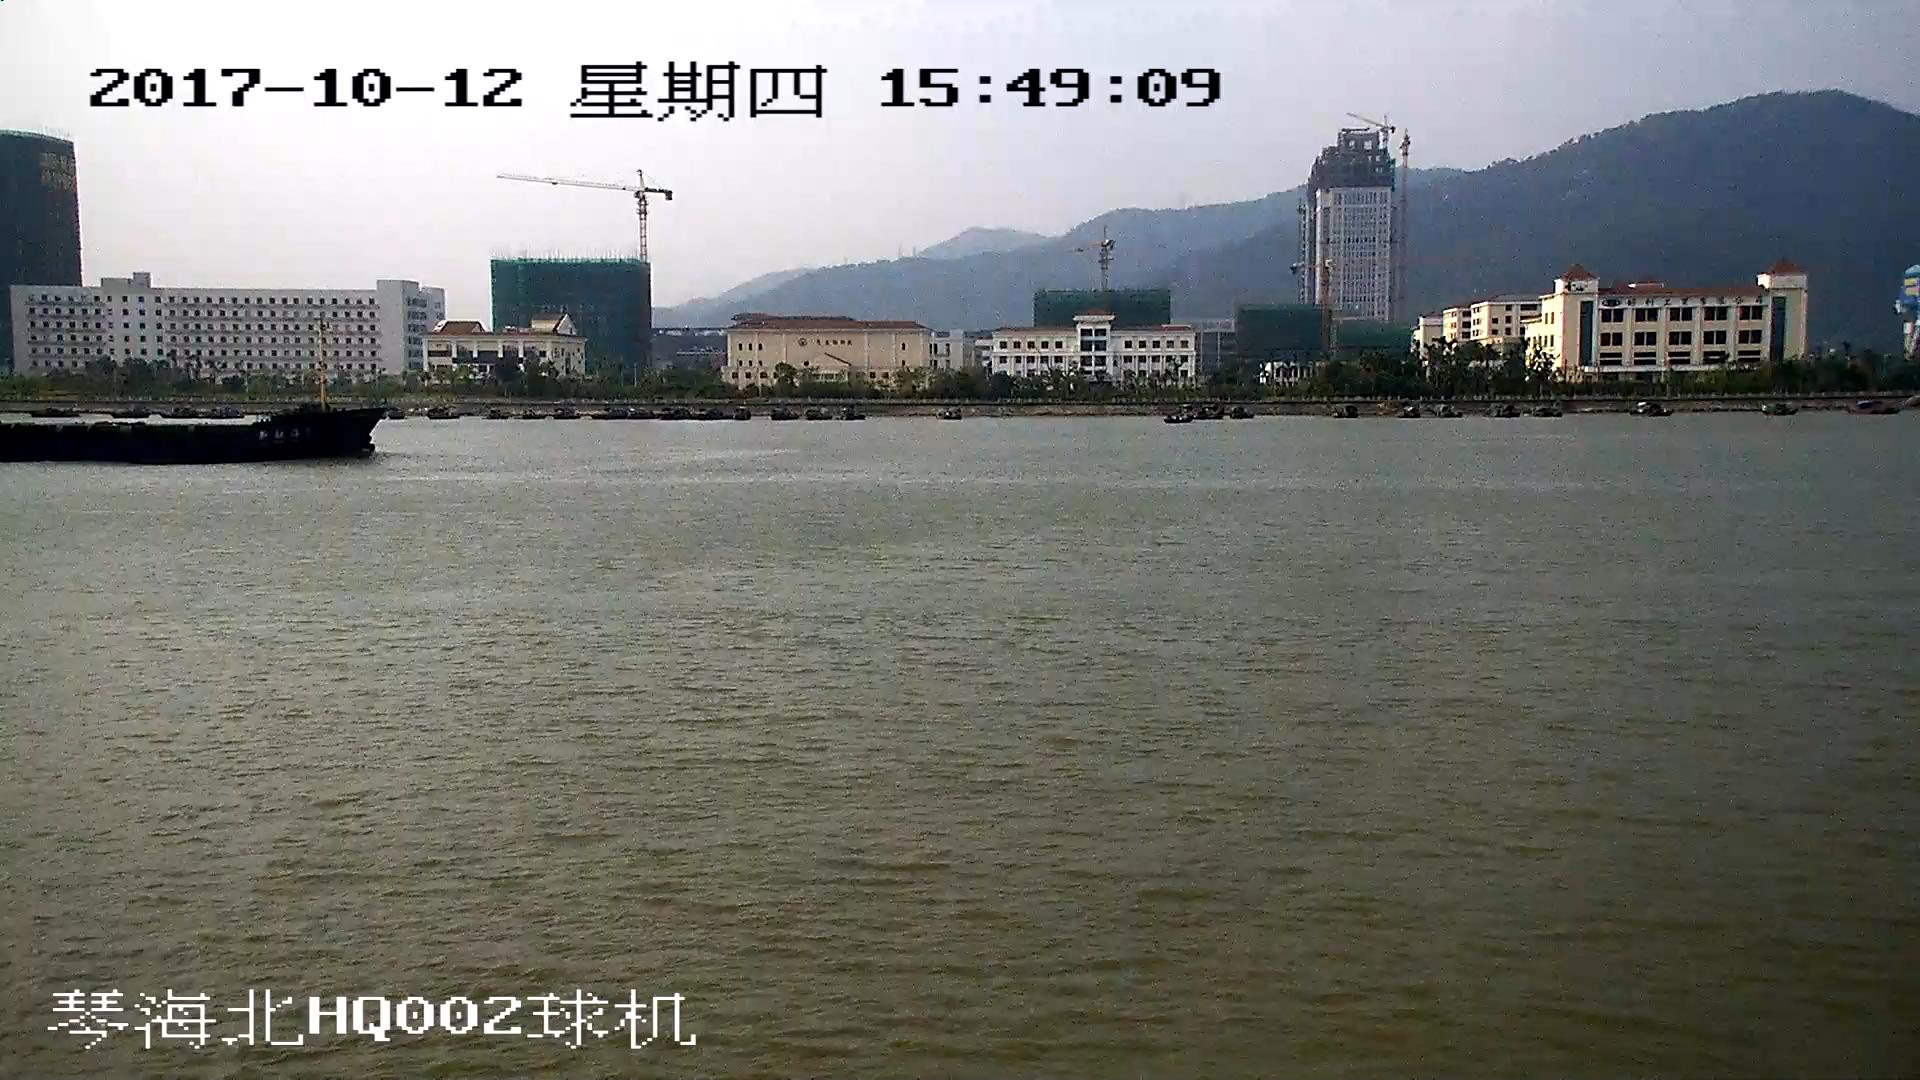general cargo ship: (1, 401, 375, 465)
